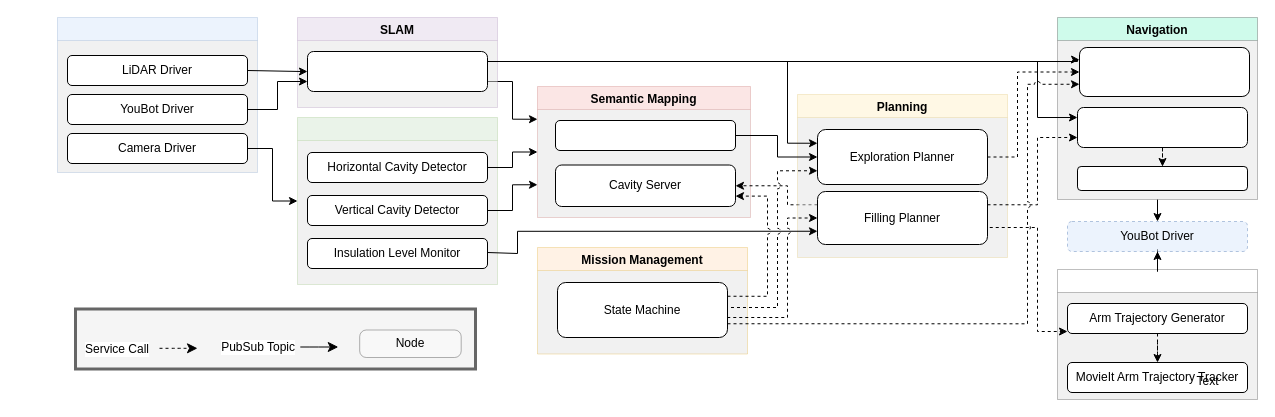
Image size: 1275x417. Some labels were removed from this diagram. Here are the shapes that lost their labels. From the top down, the box of each, then its label:
(306, 50, 488, 92): SLAM Node
(1078, 46, 1250, 96): MoveBase
(57, 17, 257, 172): Device Drivers
(554, 120, 736, 150): Cavity Observation Map Node
(1076, 106, 1248, 148): Trajectory Planner
(1076, 166, 1248, 190): Trajectory Tracker
(297, 117, 497, 284): Perception
(74, 307, 476, 370): LEGEND:
(1057, 269, 1257, 399): Arm Controller
